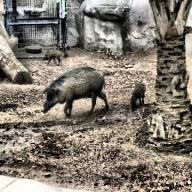boar: (37, 63, 116, 137), (124, 77, 157, 125), (36, 40, 66, 69)
